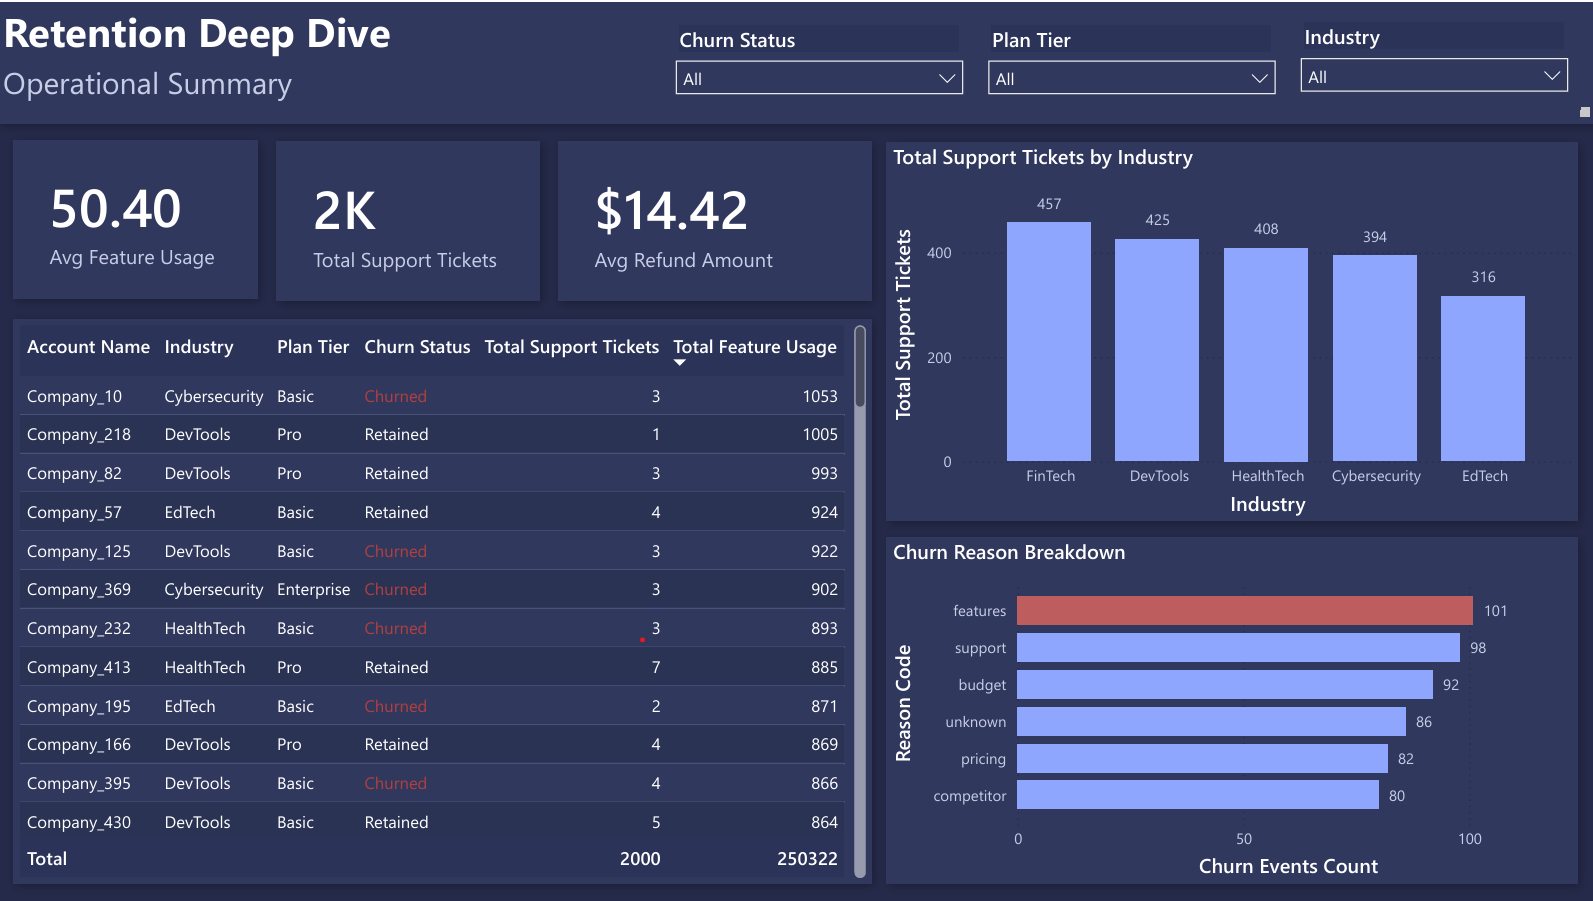

The page's visual inventory and layout, read from the dashboard file:
{"tool":"powerbi","page":{"name":"Operational Summary","canvas":[1280,720],"ordinal":1},"visuals":[{"type":"textbox","title":"Retention Deep Dive","box":[0,0,1280,96.7],"z":0},{"type":"slicer","fields":{"Values":["accounts.industry"]},"box":[1033.3,11.1,233.3,74.4],"z":1000},{"type":"slicer","fields":{"Values":["accounts.plan_tier"]},"box":[783.3,13.3,250,74.4],"z":2000},{"type":"cardVisual","fields":{"Data":["accounts.Avg Feature Usage"]},"box":[12.9,110,195.7,127.1],"z":3000},{"type":"cardVisual","fields":{"Data":["accounts.Total Support Tickets"]},"box":[224.3,110.7,210.7,127.9],"z":4000},{"type":"cardVisual","fields":{"Data":["accounts.Avg Refund Amount"]},"box":[448.6,111.4,251.4,127.1],"z":5000},{"type":"lineClusteredColumnComboChart","fields":{"Category":["accounts.industry"],"Y":["accounts.Total Support Tickets"]},"box":[711.7,111.7,553.3,303.3],"z":6000},{"type":"clusteredBarChart","title":"Churn Reason Breakdown","fields":{"Category":["churn_events.reason_code"],"Y":["churn_events.Churn Events Count"]},"box":[711.7,428.3,553.3,276.7],"z":7000},{"type":"tableEx","fields":{"Values":["accounts.account_name","accounts.industry","accounts.plan_tier","accounts.Churn Status","accounts.Total Support Tickets","accounts.Total Feature Usage"]},"box":[13.3,253.3,686.7,451.7],"z":8000},{"type":"slicer","fields":{"Values":["accounts.Churn Status"]},"box":[533.3,13.3,250,74.4],"z":9000}]}

Visuals, with their boxes in screenshot pixels (x1, y1, x2, y2), scaled from the page's 1280x720 canvas onto the 1593x901 screenshot:
"Retention Deep Dive" textbox: [x1=0, y1=0, x2=1592, y2=121]
slicer - accounts.industry: [x1=1286, y1=14, x2=1576, y2=107]
slicer - accounts.plan_tier: [x1=975, y1=17, x2=1286, y2=110]
cardVisual - accounts.Avg Feature Usage: [x1=16, y1=138, x2=260, y2=297]
cardVisual - accounts.Total Support Tickets: [x1=279, y1=139, x2=541, y2=299]
cardVisual - accounts.Avg Refund Amount: [x1=558, y1=139, x2=871, y2=298]
lineClusteredColumnComboChart - accounts.industry x accounts.Total Support Tickets: [x1=886, y1=140, x2=1574, y2=519]
"Churn Reason Breakdown" clusteredBarChart: [x1=886, y1=536, x2=1574, y2=882]
tableEx - accounts.account_name x accounts.industry: [x1=17, y1=317, x2=871, y2=882]
slicer - accounts.Churn Status: [x1=664, y1=17, x2=975, y2=110]
